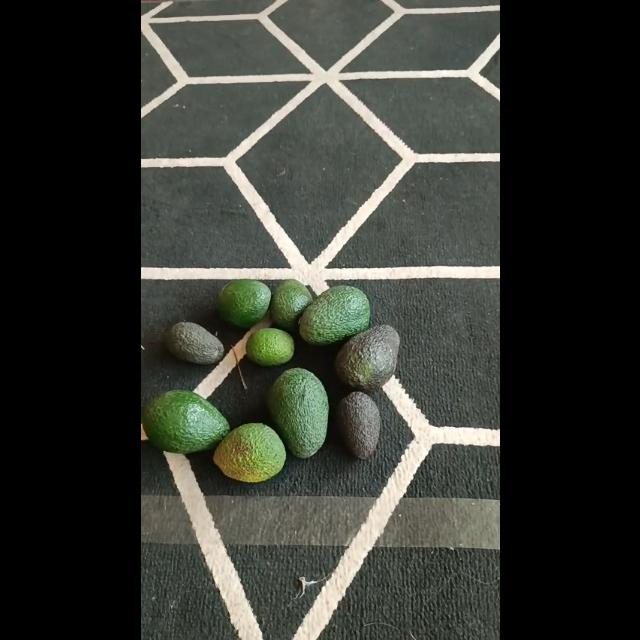Primera: (140, 389, 228, 453), (266, 366, 328, 456), (333, 325, 399, 391), (300, 284, 370, 344)
Segunda: (213, 422, 285, 482), (215, 278, 269, 328), (268, 276, 312, 330)
Tercera: (334, 391, 381, 459), (162, 321, 224, 364), (244, 327, 294, 367)
